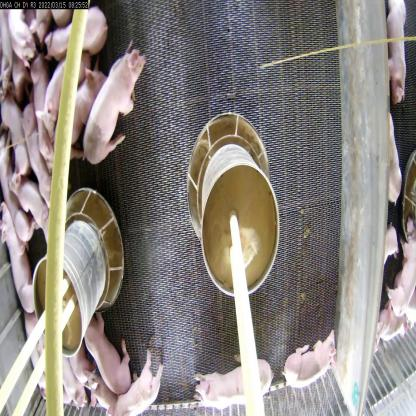Pig: (80, 44, 150, 167), (193, 352, 277, 415), (80, 313, 132, 401), (55, 64, 104, 154), (283, 326, 339, 402), (2, 198, 38, 315), (23, 96, 66, 188), (110, 356, 167, 416), (48, 11, 106, 63), (13, 163, 49, 223)
